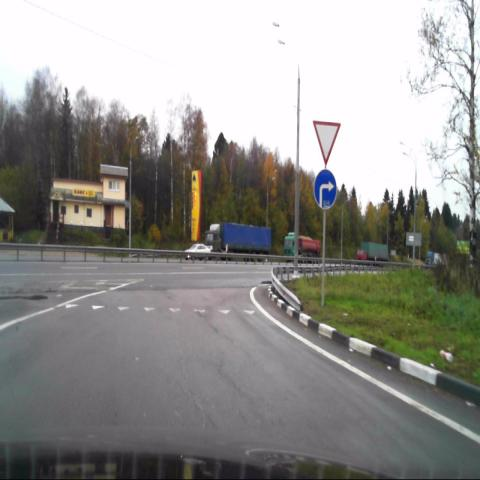4_1_2: (314, 169, 337, 210)
